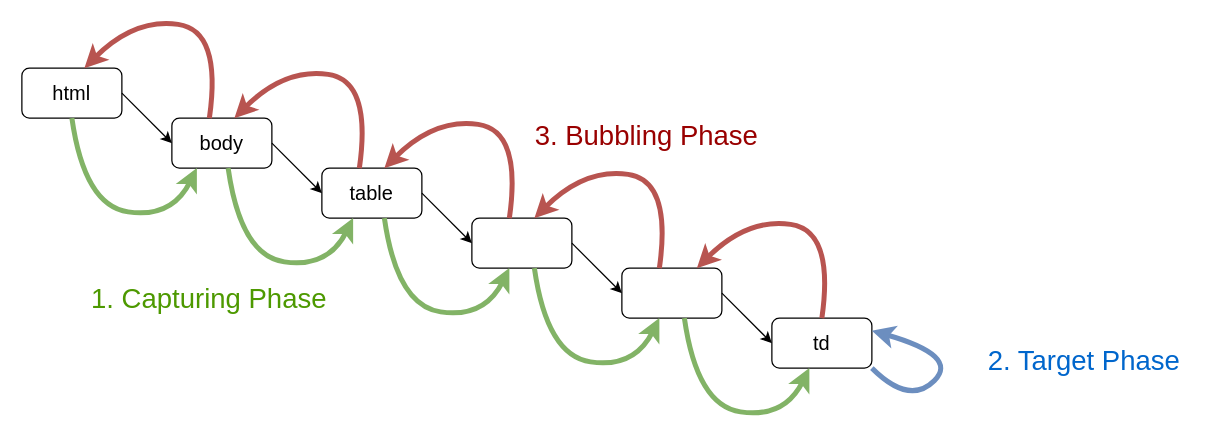
Some shapes in this 1231 by 438 pixel diagram are drawn without their labels. Here are the shapes that lost their labels. From the top down, the centre of each, then its label:
pixel 521 242: tbody
pixel 671 292: tr
